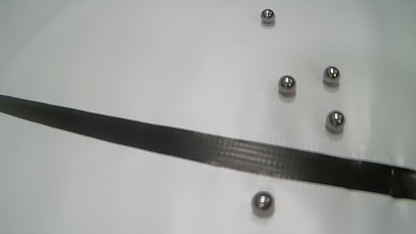ironball: (251, 191, 274, 217), (325, 110, 345, 133), (278, 75, 296, 95), (323, 66, 340, 84), (260, 9, 274, 24)
